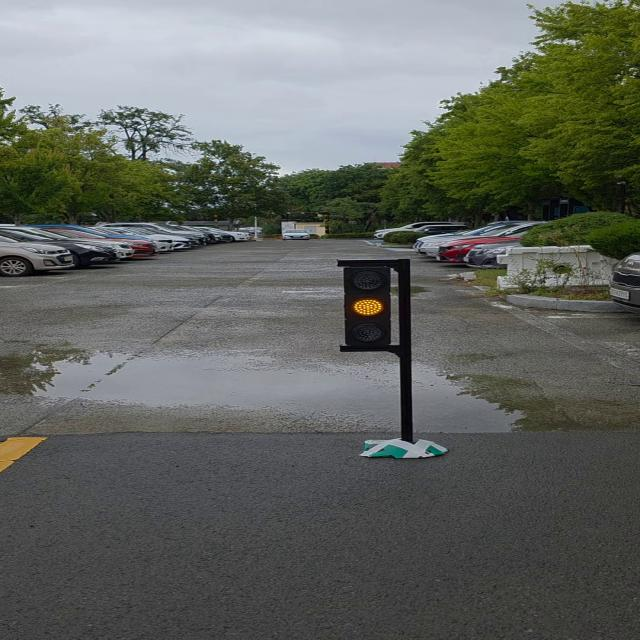yellow: (342, 260, 397, 350)
